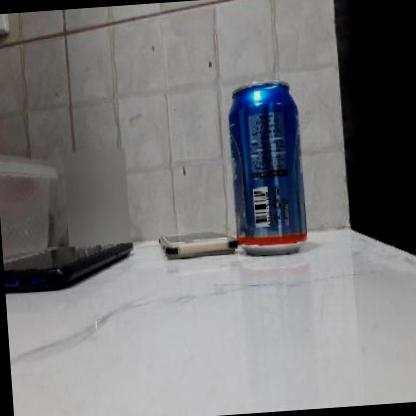alumunium_can: (225, 76, 310, 260)
